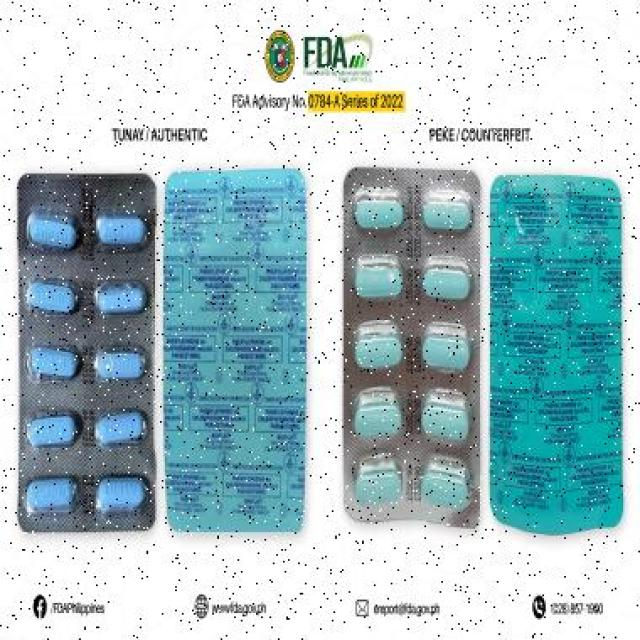Bioflu_Strip: (328, 157, 485, 537), (9, 166, 164, 538)
